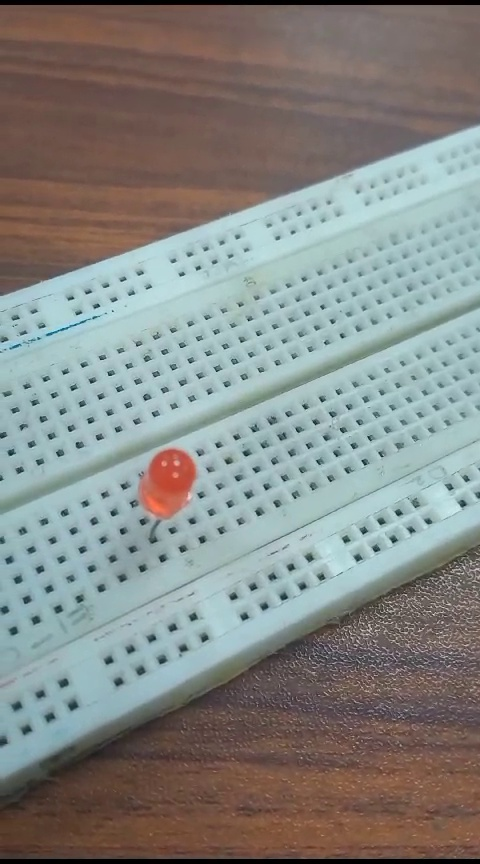LED: (139, 441, 195, 529)
